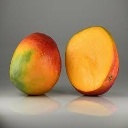mango: (64, 26, 119, 97)
